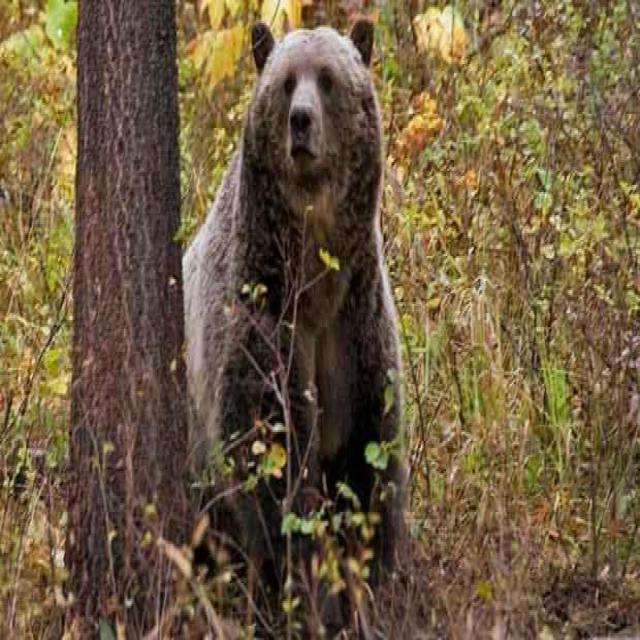Bear: (182, 25, 406, 640)
